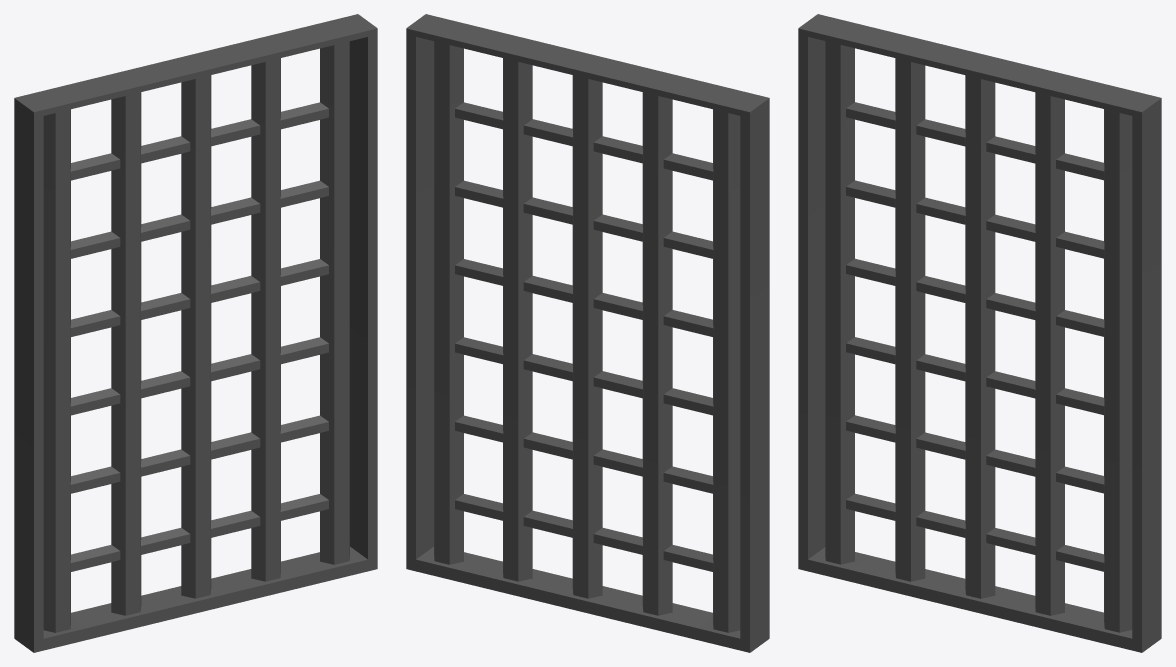
Rendered from Wall_jail.fbx.
The picture shows the model from 3 angles, left to right: view 1: azimuth 30°, elevation 25°; view 2: azimuth 150°, elevation 25°; view 3: azimuth 330°, elevation 25°; orthographic projection.
Parts seen in each view (by area): view 1: Wall_jail; view 2: Wall_jail; view 3: Wall_jail.
Part boxes in pixels (box(x1,y1,x2,y2)): Wall_jail: box(14, 14, 377, 652); Wall_jail: box(406, 14, 769, 652); Wall_jail: box(798, 14, 1161, 652).
Size of the model in its own units: 200 by 300 by 19.8.
